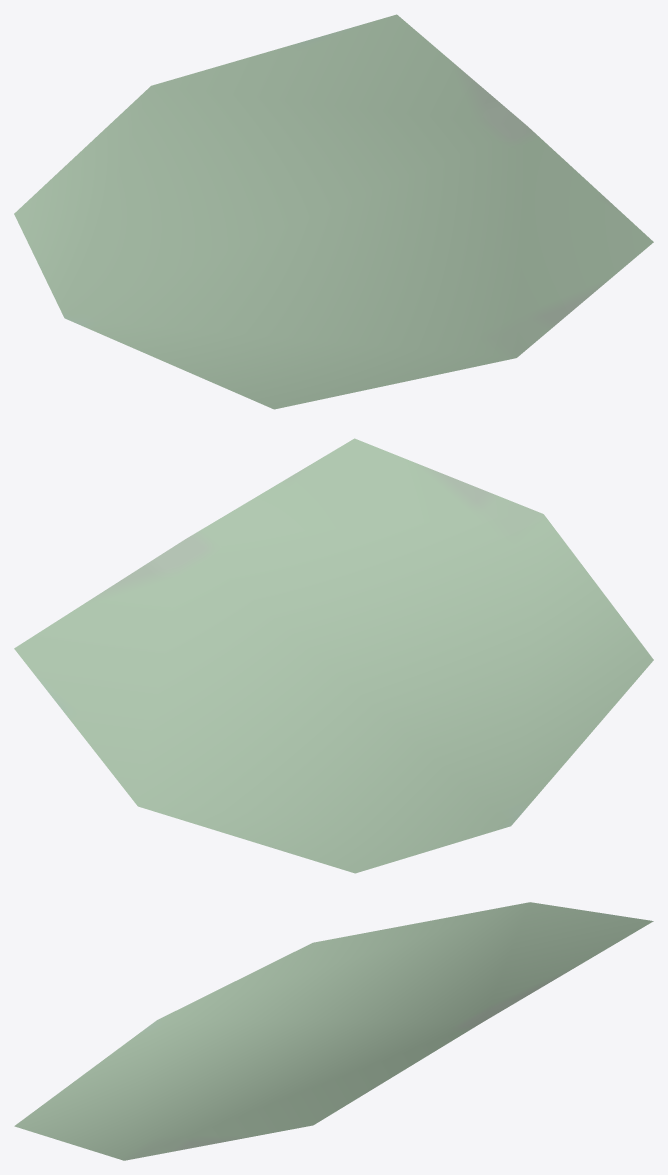
Rendered from TROLLHOLE02_HOLECAP87.fbx.
The picture shows the model from 3 angles, top to bottom: view 1: azimuth 30°, elevation 25°; view 2: azimuth 150°, elevation 25°; view 3: azimuth 330°, elevation 25°; orthographic projection.
Parts seen in each view (by area): view 1: TROLLHOLE02_HOLECAP87; view 2: TROLLHOLE02_HOLECAP87; view 3: TROLLHOLE02_HOLECAP87.
Boxes of the visible parts, bbox=[...] form: TROLLHOLE02_HOLECAP87: bbox=[14, 14, 653, 409]; TROLLHOLE02_HOLECAP87: bbox=[14, 438, 653, 873]; TROLLHOLE02_HOLECAP87: bbox=[14, 902, 653, 1160].
Bounding box in the file's own units: 8385 × 2763 × 13494.
1 material, 1 textured.
